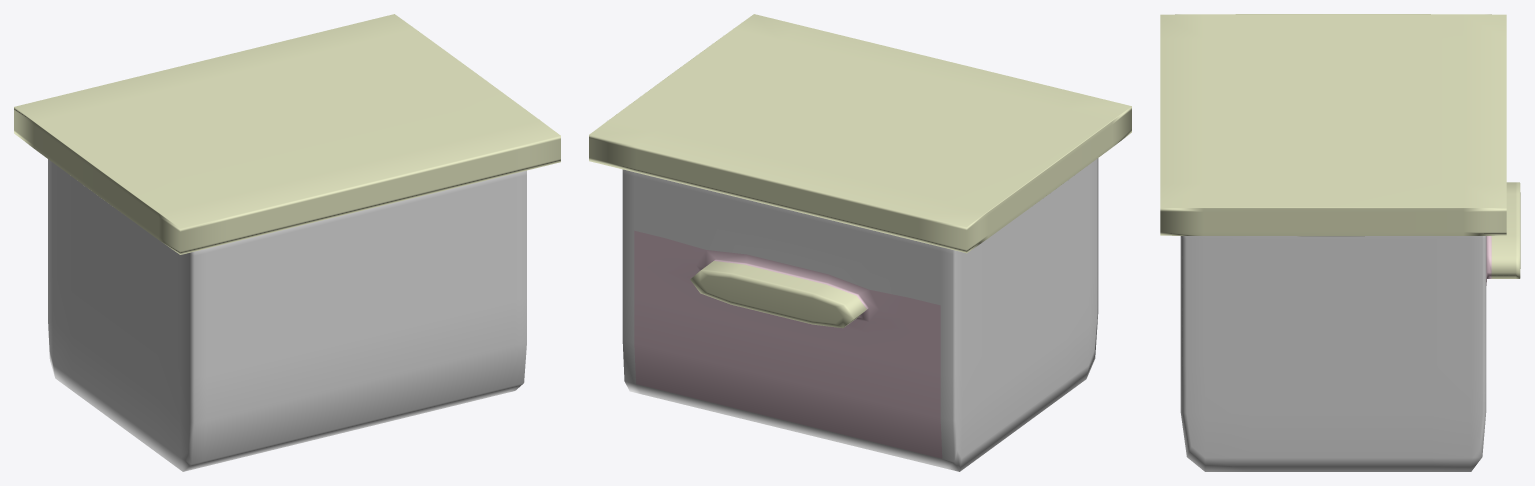
Rendered from cabinet.fbx.
3 renders of one model, left to right at view 1: azimuth 30°, elevation 25°; view 2: azimuth 150°, elevation 25°; view 3: azimuth 270°, elevation 25°, orthographic. The views are drawn at different scales.
Parts seen in each view (by area): view 1: pCube8, pCube9; view 2: pCube8, pCube9; view 3: pCube9, pCube8.
Boxes of the visible parts, x1,y1,x2,y2 form: pCube8: (48, 159, 526, 471); pCube9: (14, 14, 560, 254); pCube8: (622, 158, 1098, 471); pCube9: (589, 14, 1131, 253); pCube9: (1160, 14, 1506, 236); pCube8: (1180, 182, 1520, 471).
Size of the model in its own units: 120 by 79.67 by 94.1.
